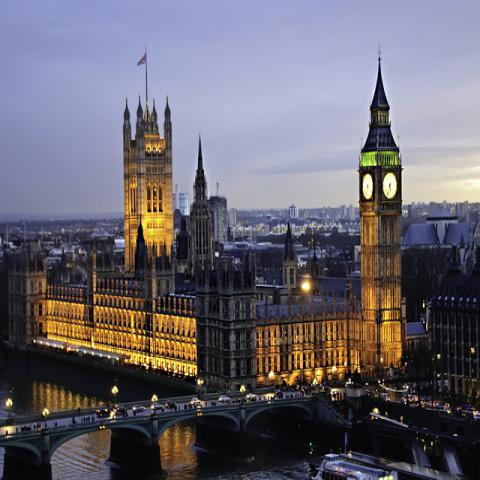car: (117, 384, 447, 412), (307, 390, 327, 400), (96, 407, 112, 417), (402, 394, 414, 404), (132, 404, 146, 412), (113, 410, 124, 419), (218, 395, 231, 402), (190, 397, 201, 404), (151, 404, 163, 410), (164, 402, 176, 408), (275, 389, 283, 396), (246, 394, 257, 398), (426, 400, 432, 407)
